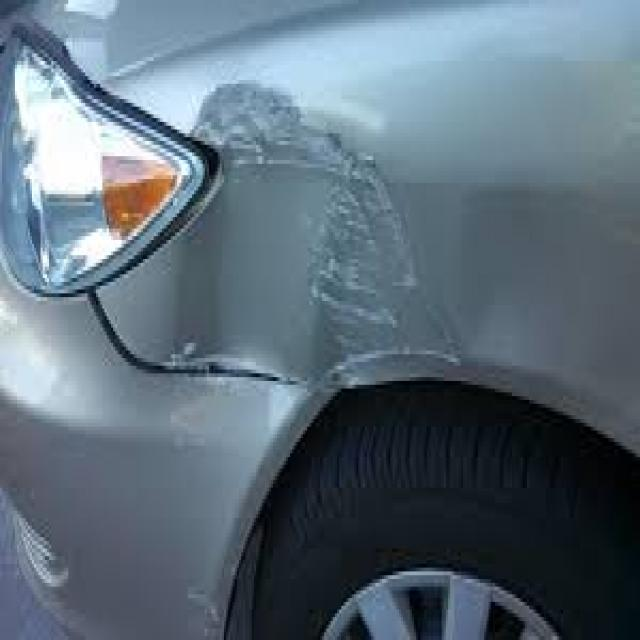minor: (200, 70, 467, 393)
